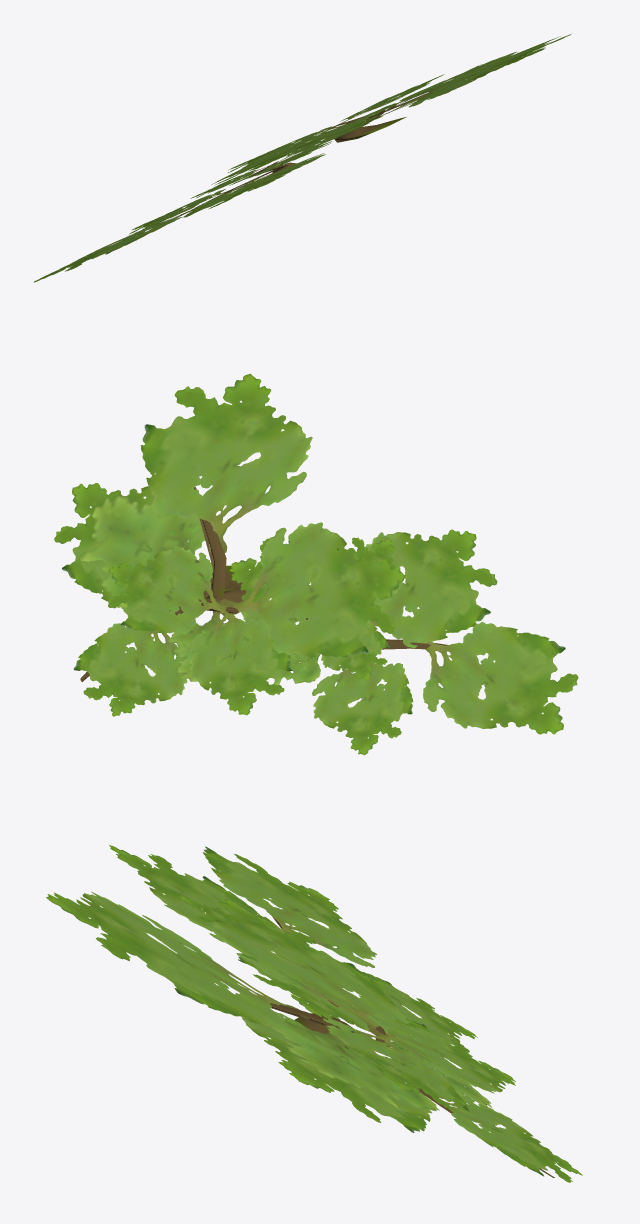
The model's file is liemo_plant_07 (5).fbx.
3 views of the same model, one above another, from view 1: azimuth 30°, elevation 25°; view 2: azimuth 150°, elevation 25°; view 3: azimuth 270°, elevation 25° (orthographic). The views are drawn at different scales.
Visible parts, largest first — view 1: liemo_plant_07 (5); view 2: liemo_plant_07 (5); view 3: liemo_plant_07 (5).
Boxes of the visible parts, bbox=[...] form: liemo_plant_07 (5): bbox=[34, 34, 571, 282]; liemo_plant_07 (5): bbox=[54, 373, 578, 755]; liemo_plant_07 (5): bbox=[46, 845, 582, 1182].
Bounding box in the file's own units: 3.98 × 1.66 × 2.42.
